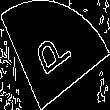P_SW: (32, 26, 78, 84)
